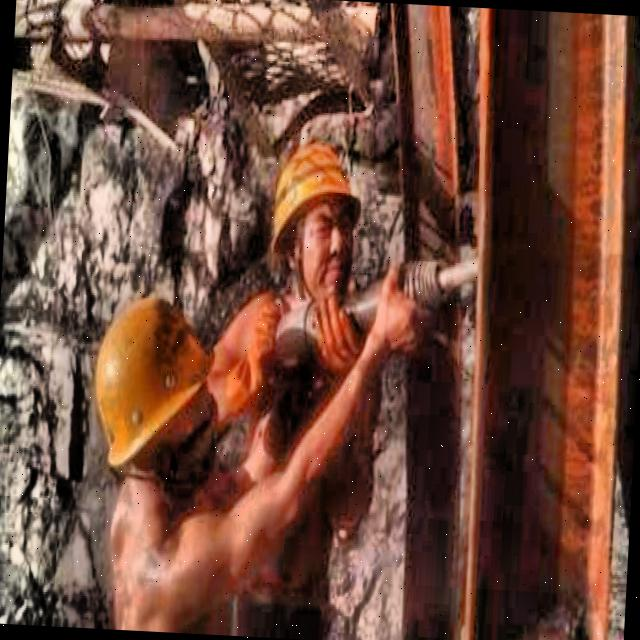helmet: (81, 286, 238, 528), (254, 123, 373, 324)
